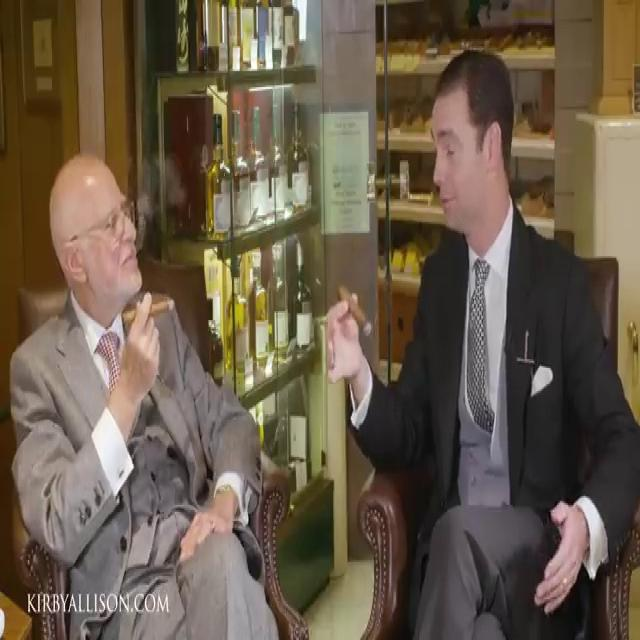Smooking: (328, 272, 378, 348), (120, 288, 181, 323)
